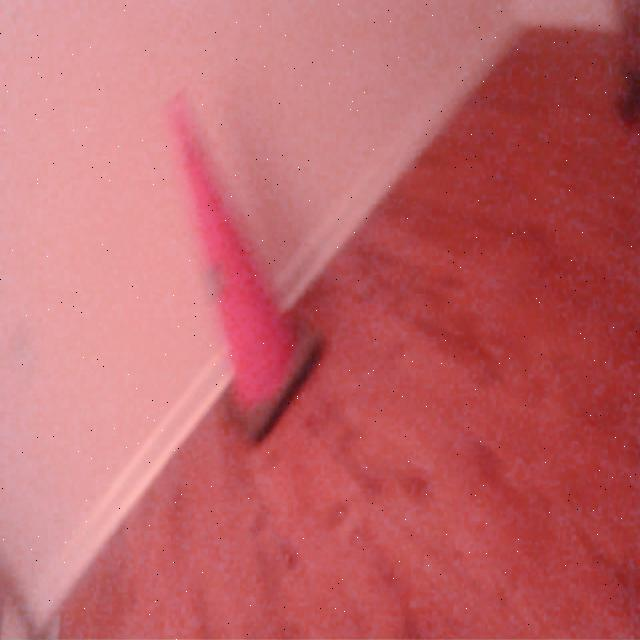traffic cone: (160, 81, 328, 451)
